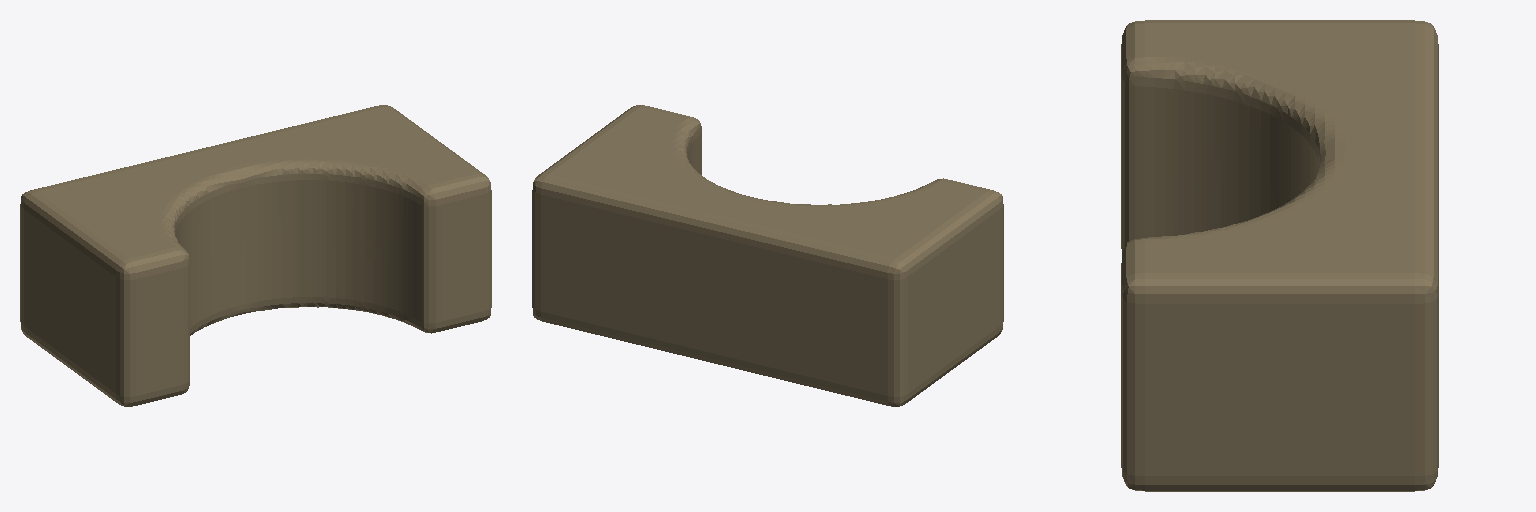
URDF robot description (Bridge):
<?xml version="1.0"?>
<robot name="Bridge">
  <link name="base_link">
    <visual>
      <origin xyz="0 0 0" rpy="0 0 0" />
      <geometry>
        <mesh filename="Bridge.obj"/>      
      </geometry>
      <material name="tan">
        <color rgba="0.55 0.5 0.4 1"/>
      </material>
    </visual>
    <collision>
      <origin xyz="0 0 0" rpy="0 0 0" />
      <geometry>
        <mesh filename="Bridge.obj"/>
      </geometry>
    </collision>
  </link>
</robot>

--- Render facts (derived) ---
Views: 3 orthographic renders of the robot side by side, from view 1: azimuth 30°, elevation 25°; view 2: azimuth 150°, elevation 25°; view 3: azimuth 270°, elevation 25°.
Robot: Bridge — 1 links, 0 joints (none); root link base_link; default pose: every joint at zero.
Visible links, largest first — view 1: base_link; view 2: base_link; view 3: base_link.
Boxes of the visible links, box(x1,y1,x2,y2) form: base_link: box(20, 105, 491, 406); base_link: box(532, 105, 1003, 406); base_link: box(1121, 20, 1438, 491).
Bounding box of the posed robot: 50.8 × 25.4 × 19.05 m (x, y, z).
Meshes: 1 distinct files referenced, 1 mesh visuals loaded (1 OBJ).
